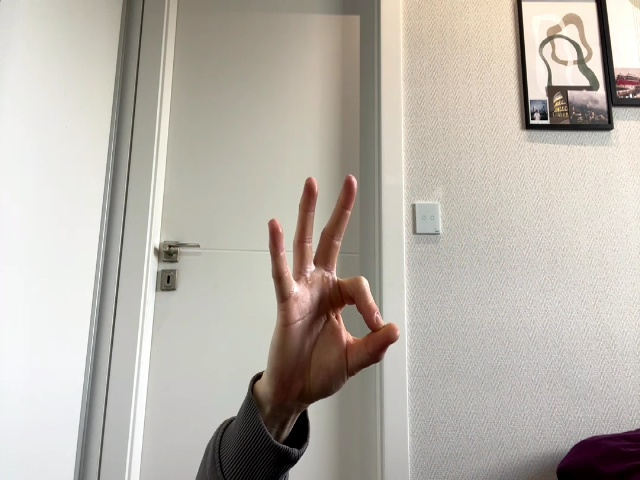O: (268, 174, 399, 409)
